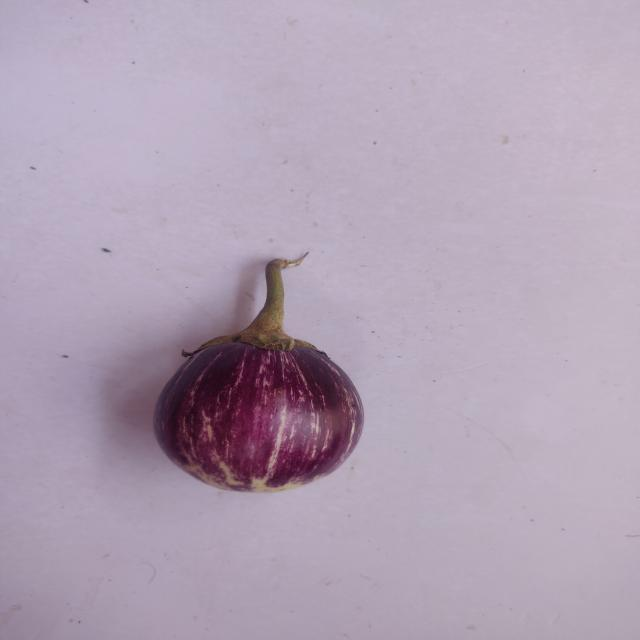Eggplant: (145, 239, 371, 501)
